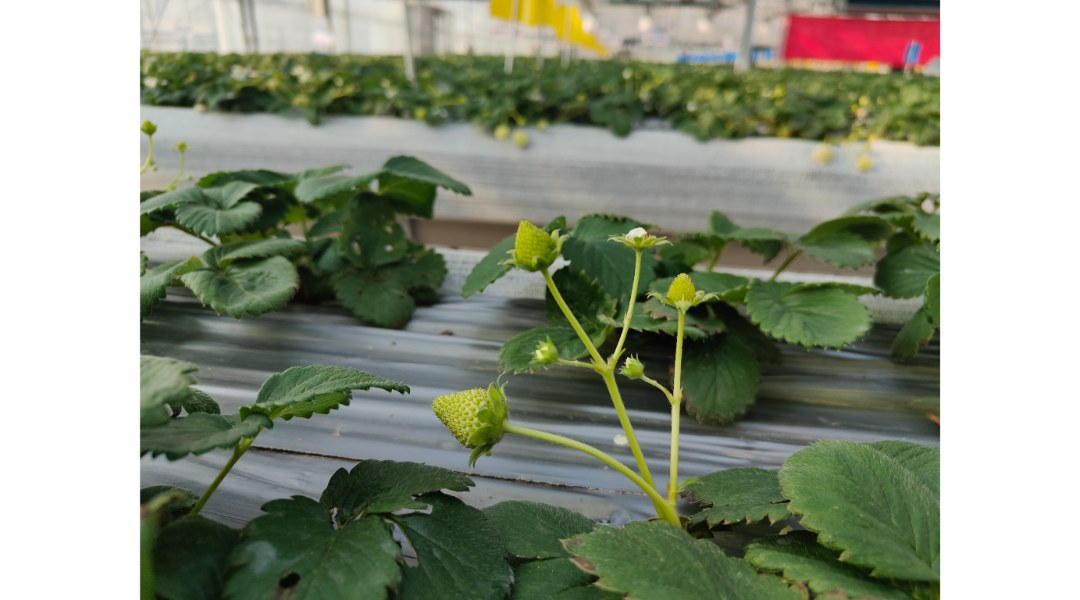berry: (423, 378, 516, 454), (507, 210, 566, 285), (663, 275, 703, 313)
flower: (609, 220, 675, 251), (525, 340, 563, 369), (623, 354, 646, 379)
strain: (503, 429, 628, 489), (545, 267, 606, 363), (596, 393, 663, 475), (608, 251, 647, 382), (673, 318, 687, 502)
